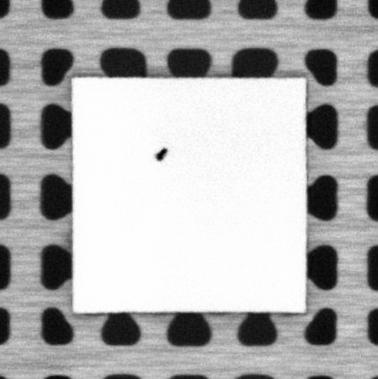DIE_INK: (153, 145, 168, 162)
